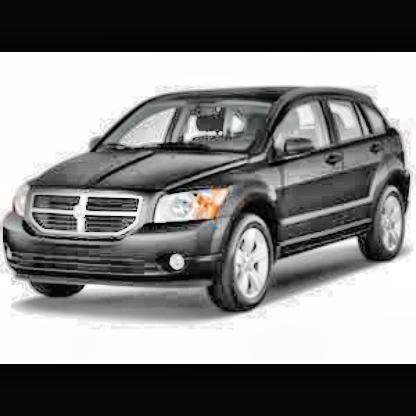Dodge Caliber Wagon 2012: (2, 86, 412, 316)
